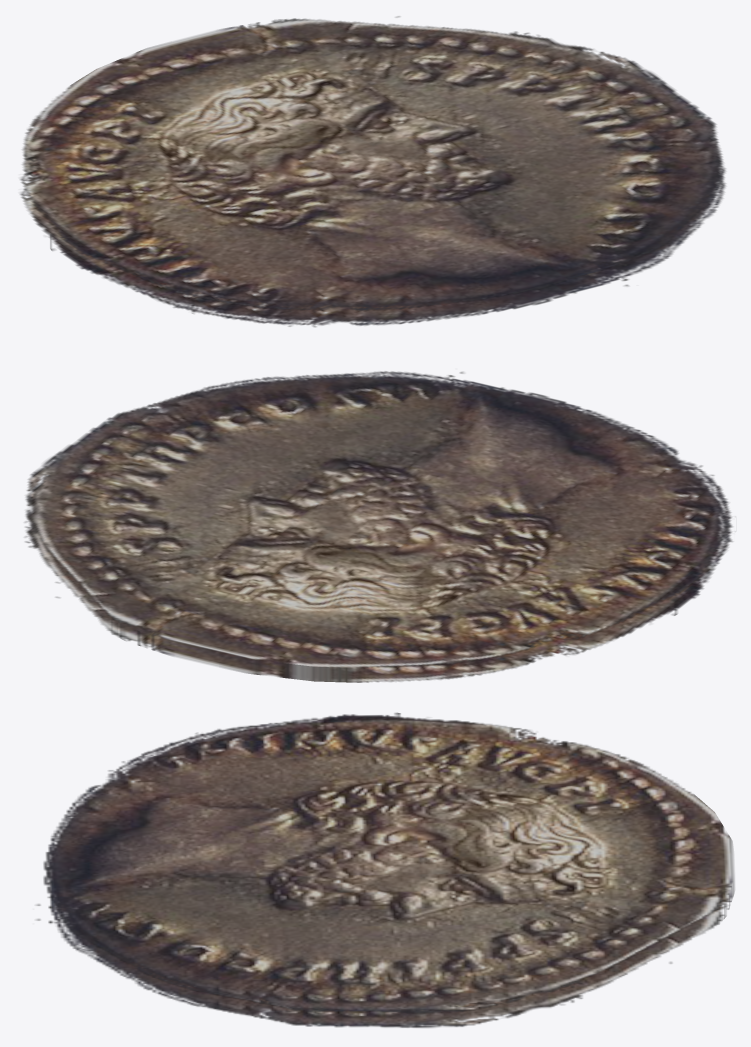
Rendered from roman_coin.glb.
The picture shows the model from 3 angles, top to bottom: view 1: azimuth 30°, elevation 25°; view 2: azimuth 150°, elevation 25°; view 3: azimuth 270°, elevation 25°; orthographic projection.
Parts seen in each view (by area): view 1: Circle; view 2: Circle; view 3: Circle.
Part boxes in pixels (left/top/right/bottom): Circle: left=20, top=16, right=725, bottom=327; Circle: left=25, top=371, right=732, bottom=682; Circle: left=36, top=713, right=734, bottom=1027.
Bounding box in the file's own units: 2 × 0.0451 × 2.
1 material, 1 textured.
